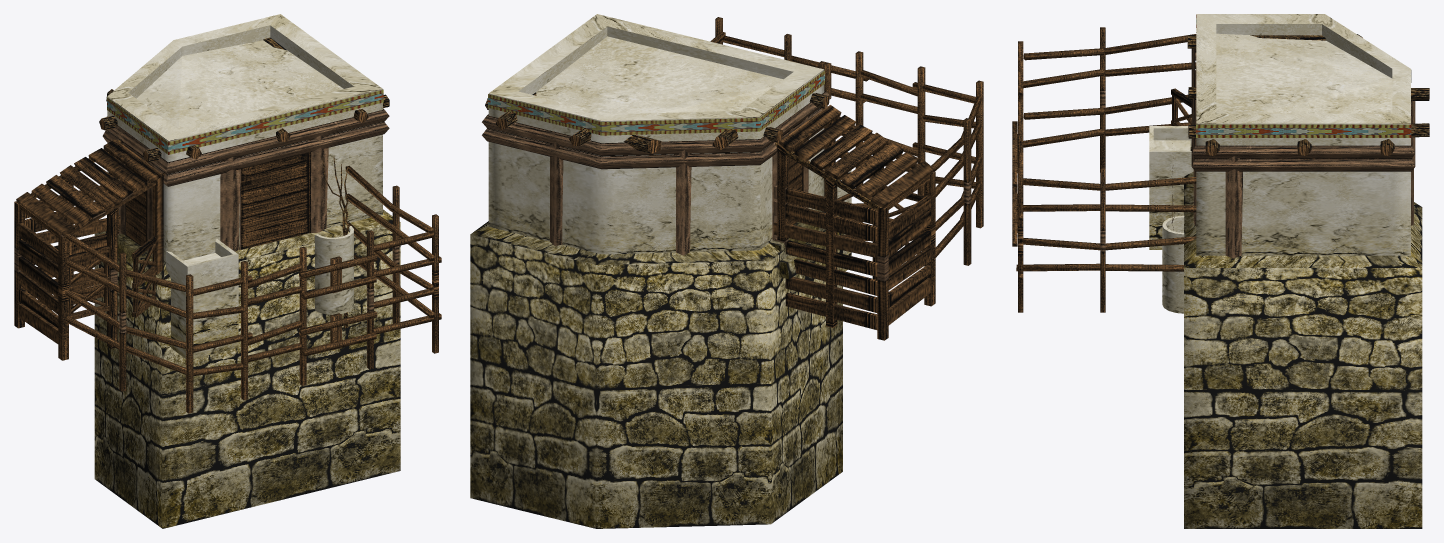
The model's file is mycenae_corral.dae.
3 views of the same model, side by side, from view 1: azimuth 30°, elevation 25°; view 2: azimuth 150°, elevation 25°; view 3: azimuth 270°, elevation 25° (orthographic). The views are drawn at different scales.
Parts seen in each view (by area): view 1: Cube_007; view 2: Cube_007; view 3: Cube_007.
Part boxes in pixels (left/top/right/bottom): Cube_007: left=14, top=14, right=441, bottom=528; Cube_007: left=470, top=14, right=983, bottom=528; Cube_007: left=1012, top=14, right=1429, bottom=528.
Bounding box in the file's own units: 18.08 × 18.79 × 19.84.
